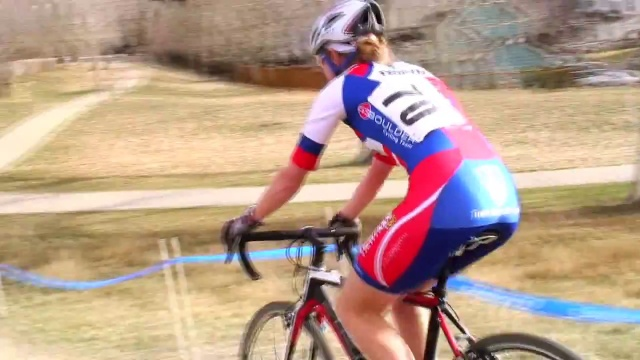person: (224, 5, 529, 320)
